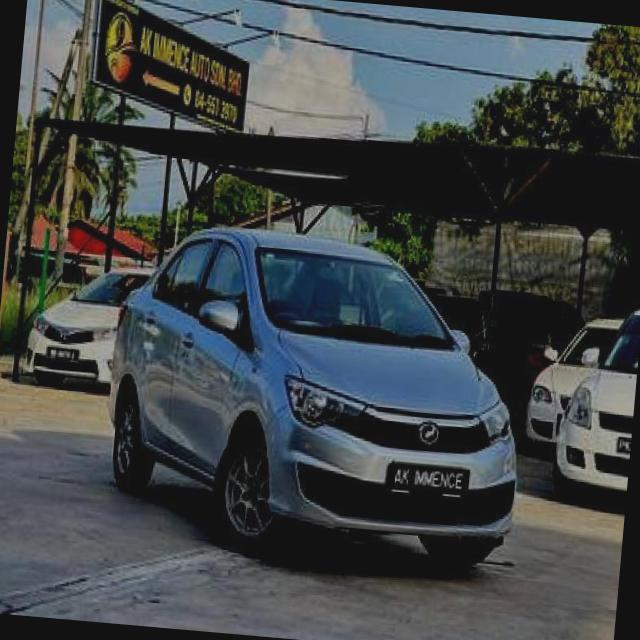PeroduaBezza: (93, 214, 538, 574)
